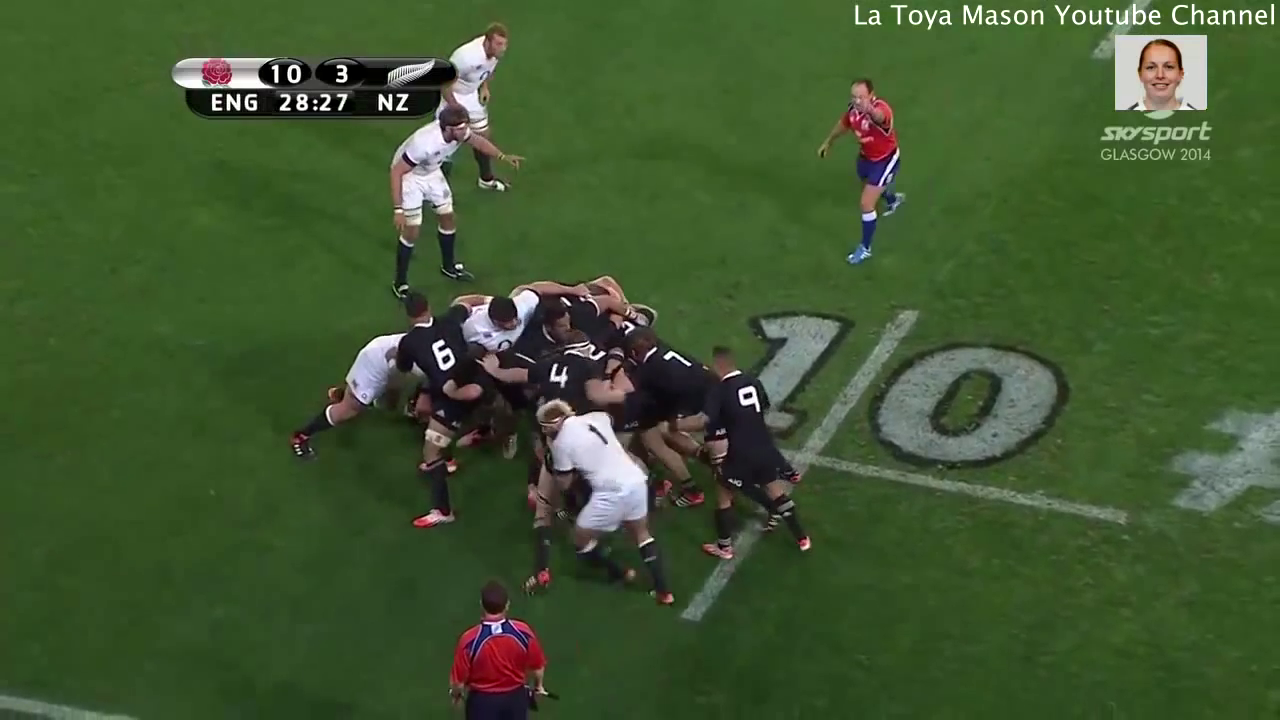10_metre: (665, 296, 1126, 635)
maul: (313, 282, 832, 556)
player: (529, 399, 673, 615), (701, 339, 817, 570), (807, 72, 912, 274), (389, 107, 493, 303), (390, 294, 472, 528), (289, 325, 405, 489), (623, 328, 713, 522), (447, 580, 548, 720), (525, 336, 620, 414), (441, 20, 503, 136), (456, 288, 535, 356)
